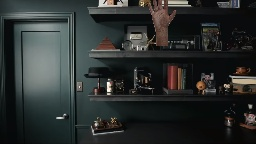Mano_aperta: (146, 0, 178, 31)
